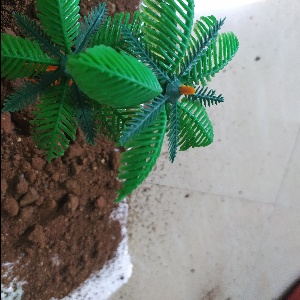plant: (109, 12, 231, 188), (9, 7, 123, 163)
